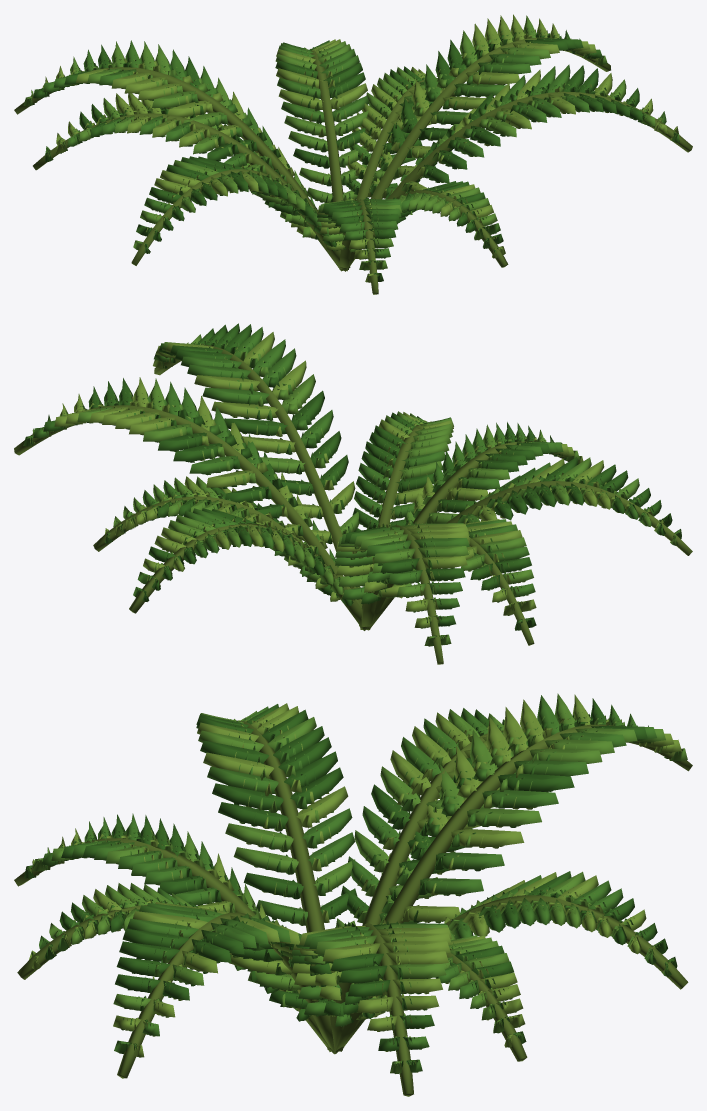
File: forest-fern-2.glb
3 views of the same model, one above another, from view 1: azimuth 30°, elevation 25°; view 2: azimuth 150°, elevation 25°; view 3: azimuth 270°, elevation 25° (orthographic). The views are drawn at different scales.
Visible parts, largest first — view 1: forest-fern-2/0; view 2: forest-fern-2/0; view 3: forest-fern-2/0.
Boxes of the visible parts, x1,y1,x2,y2 form: forest-fern-2/0: (14,14,692,294); forest-fern-2/0: (14,323,692,664); forest-fern-2/0: (14,693,692,1096).
Bounding box in the file's own units: 3.94 × 1.23 × 3.09.
